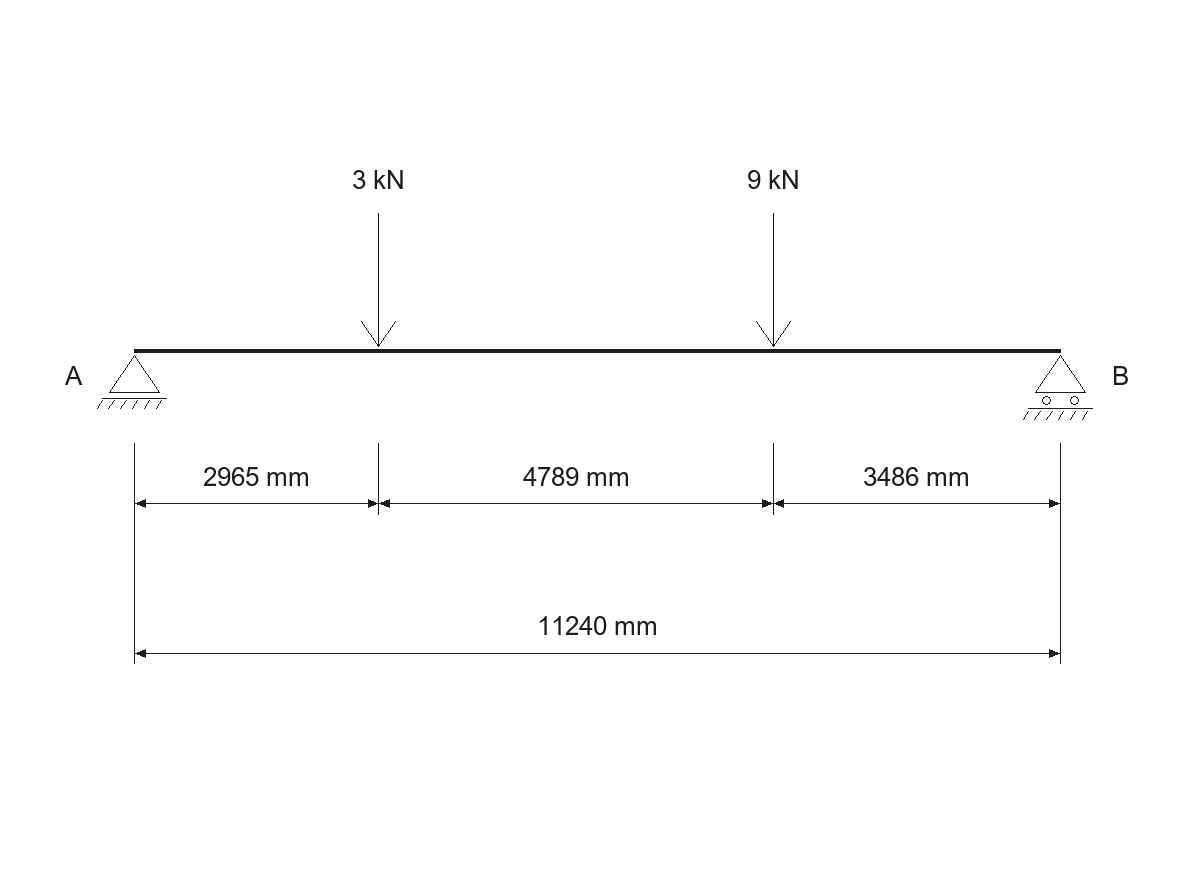pin_support: (97, 355, 167, 409)
point_load: (361, 213, 396, 347), (756, 213, 791, 347)
roller_support: (1023, 355, 1093, 420)
